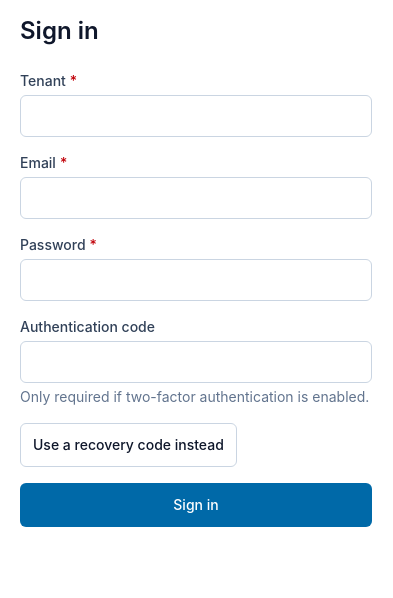
a failed sign-in shows one generic message, never which field was wrong
Check: the heading "Sign in" is shown, box [20,16,99,45]
Type "acme" into the field labelled "Tenant*".
click(196, 116); type("acme")  # box [20,95,372,137]
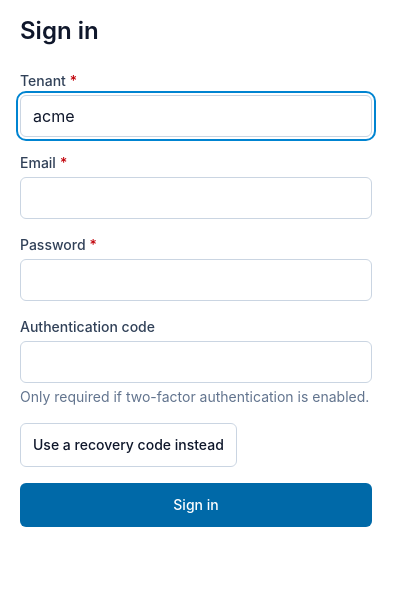
Type "someone@example.com" into the field labelled "Email*".
click(196, 198); type("someone@example.com")  # box [20,177,372,219]
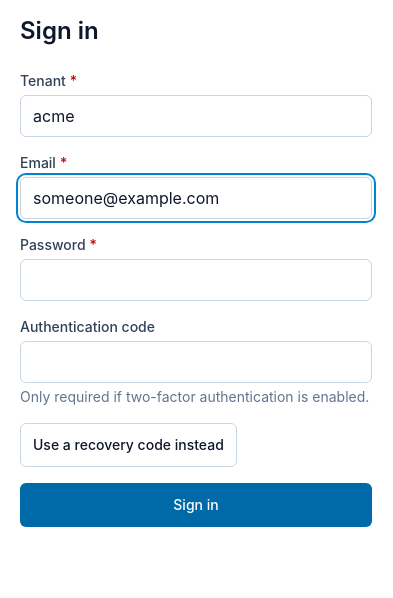
Type "wrong" into the password field labelled "Password*".
click(196, 280); type("wrong")  # box [20,259,372,301]
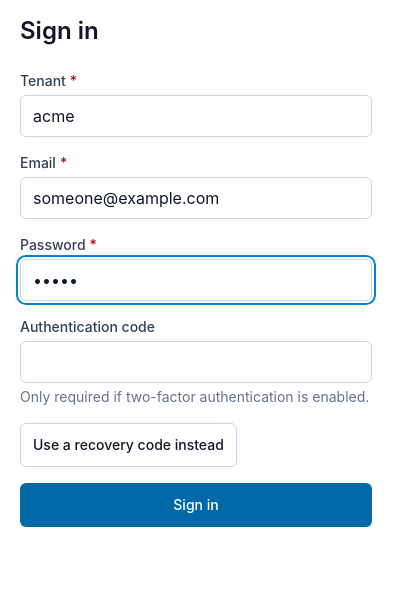
Click the button "Sign in".
click(196, 505)  # box [20,483,372,527]
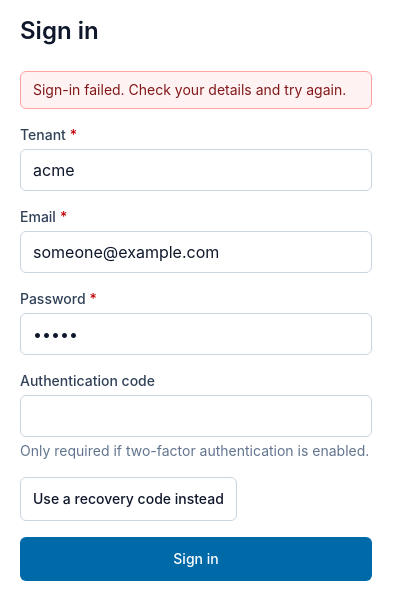
Check: the message reads "Sign-in failed. Check your details and try again.", box [33,81,346,98]
